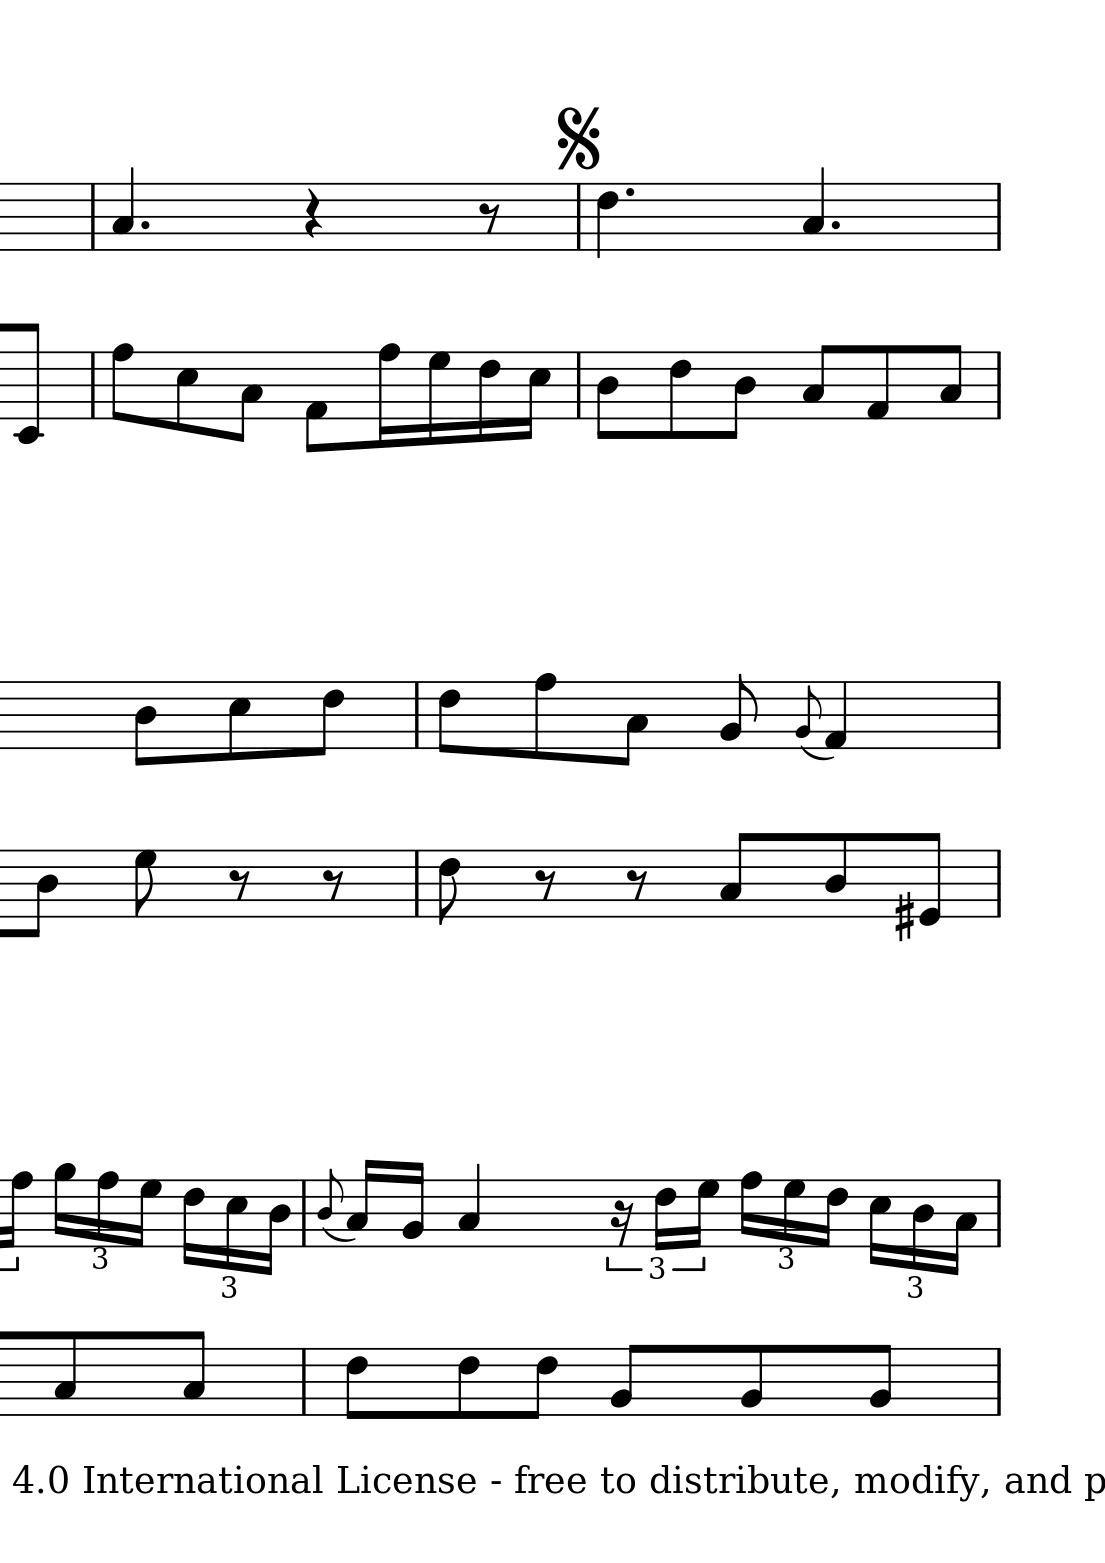16_2: (399, 1160, 425, 1248)
16_3: (344, 1158, 377, 1248), (947, 1178, 977, 1276)
16_4: (260, 1178, 291, 1276), (909, 1178, 933, 1272)
16_5: (519, 349, 552, 441), (222, 1177, 248, 1271), (867, 1177, 891, 1266)
16_6: (476, 348, 501, 444), (816, 1178, 848, 1248), (181, 1178, 204, 1266), (652, 1178, 677, 1251)
16_7: (425, 349, 450, 448), (128, 1177, 161, 1248), (686, 1178, 719, 1250), (780, 1177, 805, 1247)
16_8: (376, 342, 399, 450), (1, 1171, 32, 1250), (738, 1170, 762, 1248), (94, 1171, 118, 1248)
16_9: (50, 1161, 75, 1248)
3: (646, 1253, 667, 1282), (90, 1247, 109, 1271), (220, 1275, 238, 1300), (905, 1275, 923, 1300), (777, 1247, 794, 1271)
4_1: (823, 679, 848, 751)
4_3: (800, 165, 826, 254), (454, 1161, 481, 1248), (110, 166, 135, 252)
4_6: (594, 182, 619, 260)
8_-2: (11, 320, 44, 447)
8_0: (917, 830, 942, 928)
8_1: (303, 350, 328, 454), (863, 342, 892, 422)
8_2: (719, 672, 758, 750), (609, 1343, 641, 1417), (738, 1344, 764, 1418), (793, 680, 822, 747), (868, 1342, 893, 1418)
8_3: (228, 349, 263, 445), (718, 831, 752, 920), (615, 679, 649, 767), (800, 343, 834, 421), (51, 1329, 79, 1419), (181, 1329, 207, 1419), (938, 342, 963, 421)
8_4: (722, 349, 757, 442), (24, 847, 57, 940), (594, 349, 621, 442), (822, 831, 849, 920), (132, 679, 157, 768)
8_5: (225, 679, 252, 763), (173, 349, 199, 434)
8_6: (309, 679, 344, 758), (524, 1347, 558, 1422), (666, 349, 692, 442), (435, 848, 460, 926), (436, 679, 462, 756), (343, 1347, 368, 1423), (454, 1347, 480, 1422)
8_7: (132, 848, 158, 918)
8_8: (529, 671, 557, 762), (109, 341, 134, 425)
Appoggiature: (315, 1167, 343, 1246), (796, 679, 822, 747)
Rests16: (609, 1198, 634, 1248)
Rests4: (303, 187, 323, 242)
Rests8: (477, 201, 501, 236), (226, 867, 250, 902), (320, 867, 343, 900), (532, 868, 555, 900), (624, 868, 647, 900)
Segno: (549, 100, 605, 175)
Sharp: (893, 890, 914, 942)
Single_barline: (407, 850, 426, 917), (294, 1349, 313, 1416), (569, 184, 588, 250), (989, 183, 1007, 250), (989, 352, 1007, 419), (408, 682, 426, 747), (989, 682, 1007, 747), (84, 352, 100, 419), (989, 850, 1006, 917), (295, 1180, 312, 1247), (570, 353, 587, 419), (84, 184, 100, 249)
Slur: (987, 1179, 1009, 1248), (987, 1348, 1009, 1415), (319, 1226, 359, 1244), (799, 745, 836, 761)
dot: (622, 185, 637, 200), (138, 219, 151, 231), (829, 219, 841, 231)
